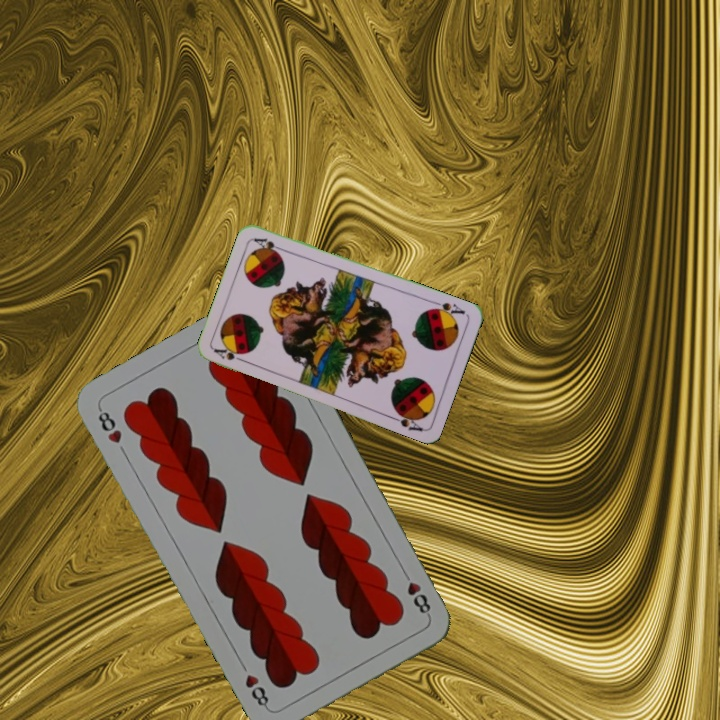H8: (398, 566, 434, 620), (94, 404, 125, 447)
SA: (427, 297, 468, 320), (210, 343, 250, 365)
